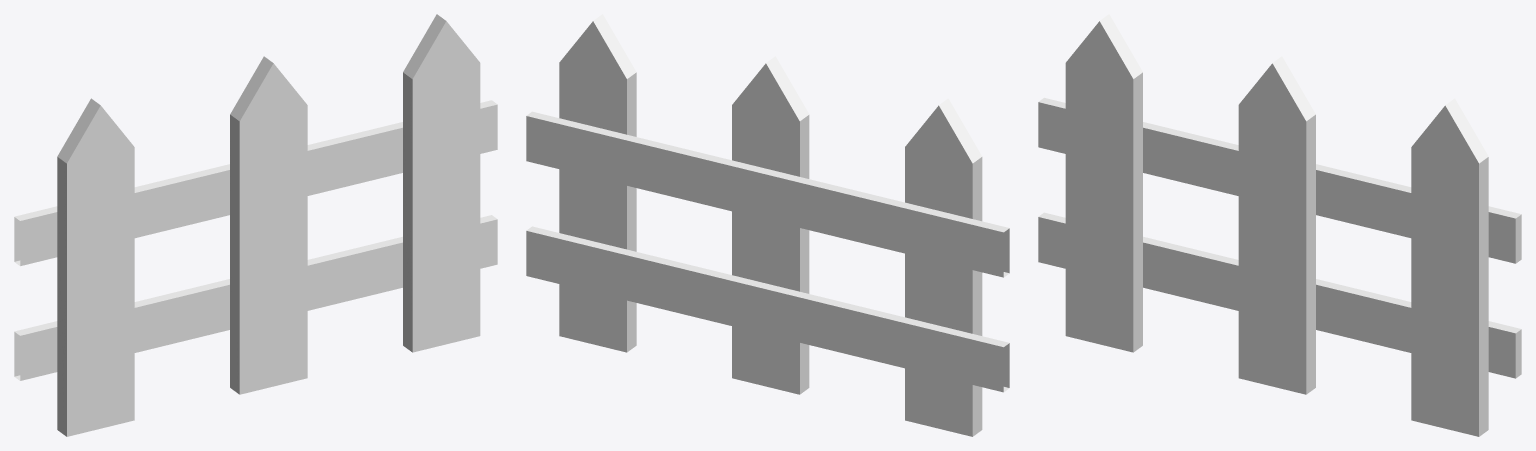
The model's file is Fence Tile_3.fbx.
3 views of the same model, side by side, from view 1: azimuth 30°, elevation 25°; view 2: azimuth 150°, elevation 25°; view 3: azimuth 330°, elevation 25° (orthographic).
Visible parts, largest first — view 1: Fence Tile_3; view 2: Fence Tile_3; view 3: Fence Tile_3.
Boxes of the visible parts, bbox=[...] form: Fence Tile_3: bbox=[14, 14, 497, 436]; Fence Tile_3: bbox=[526, 14, 1009, 436]; Fence Tile_3: bbox=[1038, 14, 1521, 436].
Bounding box in the file's own units: 189 × 122 × 10.68.
